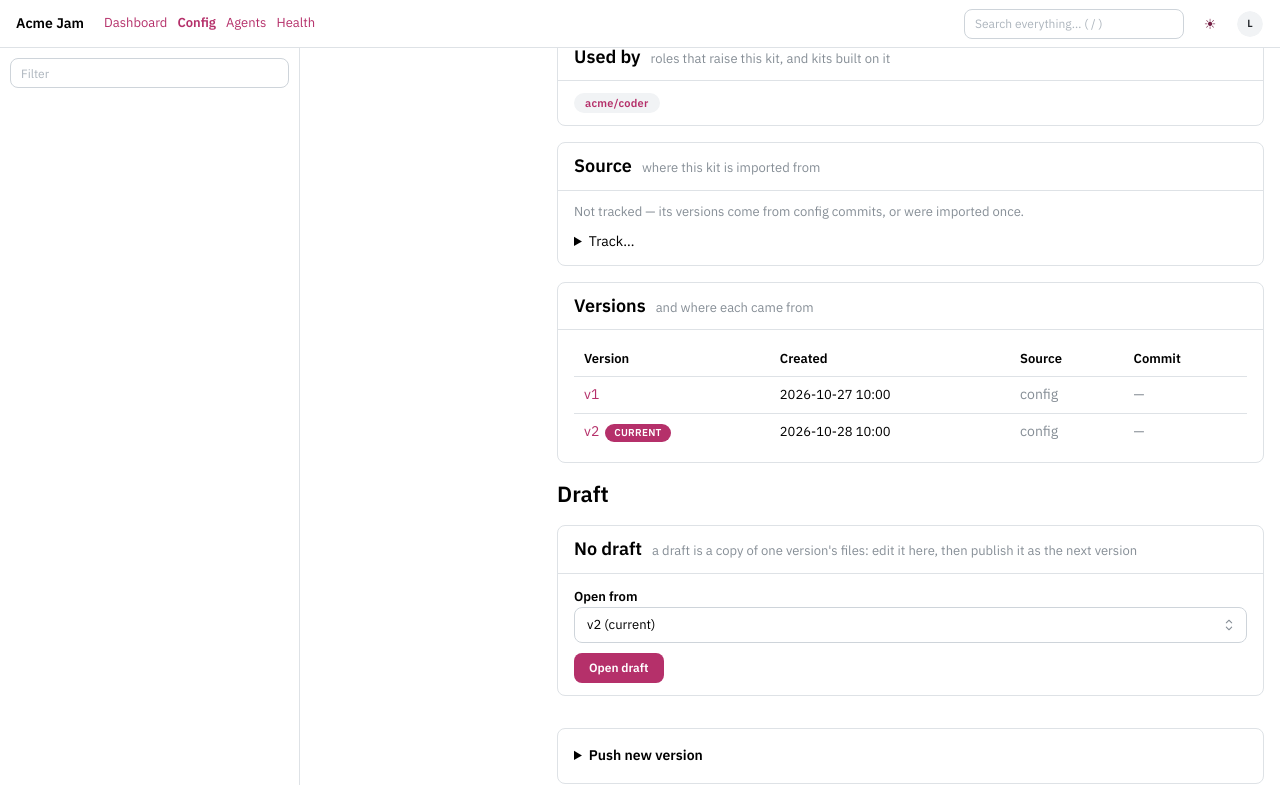
Test: a kit's Draft › opens a draft from a version
(page scrolled)
Expected: the heading "No draft" is shown, [574,536,642,563]
Expected: the dropdown labelled "Open from" shows "v2 (current)", [574,607,1247,643]
What coordinates should you click on to do the following:
click the button "Open draft"
I would click on:
 (619, 668)
Its box is [574,653,664,683].
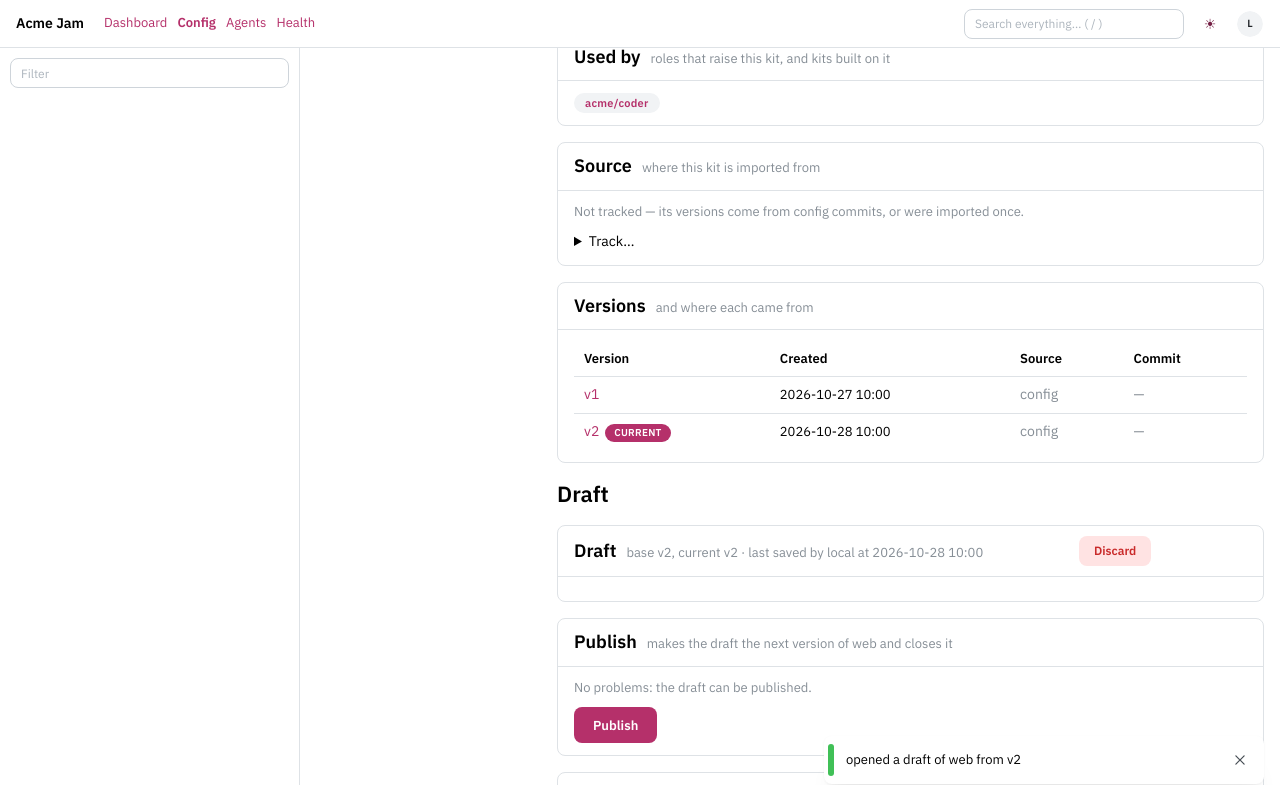
Now the text "opened a draft of web from v2" is shown, box [846,751,1021,768]
Now the text "base v2, current v2 · last saved by local" is shown, box [626,544,983,561]
